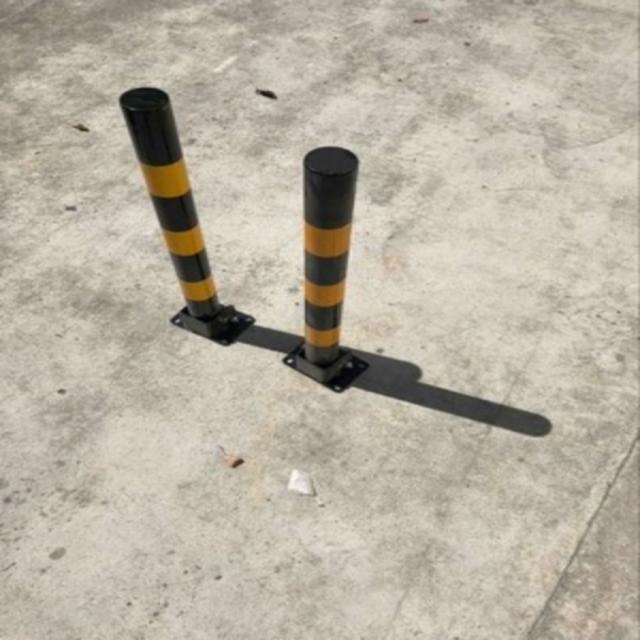warning_column: (117, 85, 254, 341), (275, 146, 367, 390)
